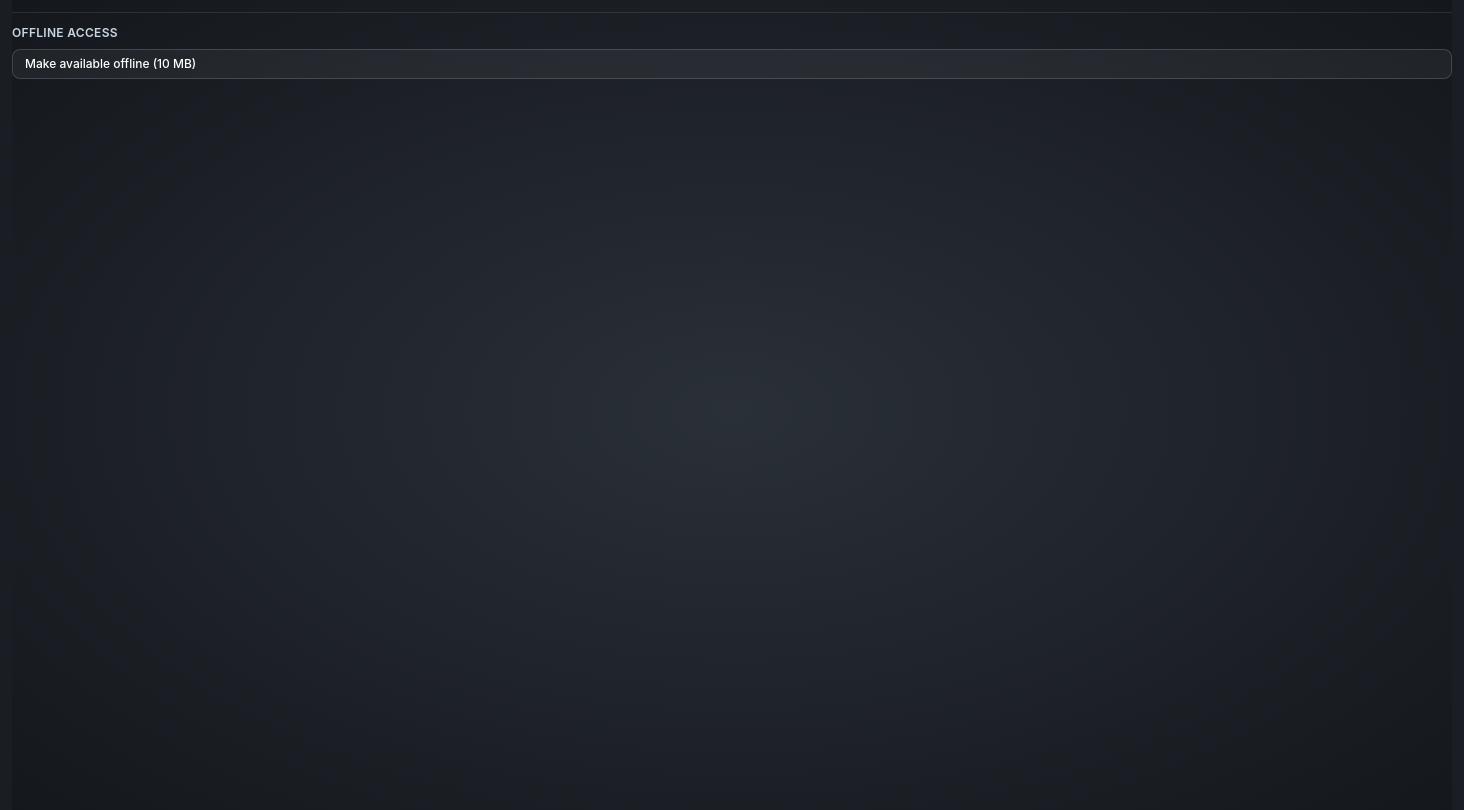
OfflineDownload › displays failure error message on network failure
This screenshot has width=1464, height=810.
Click the button "Make available offline (10 MB)" at coordinates (111, 64), box x1=12 y1=49 x2=1452 y2=79
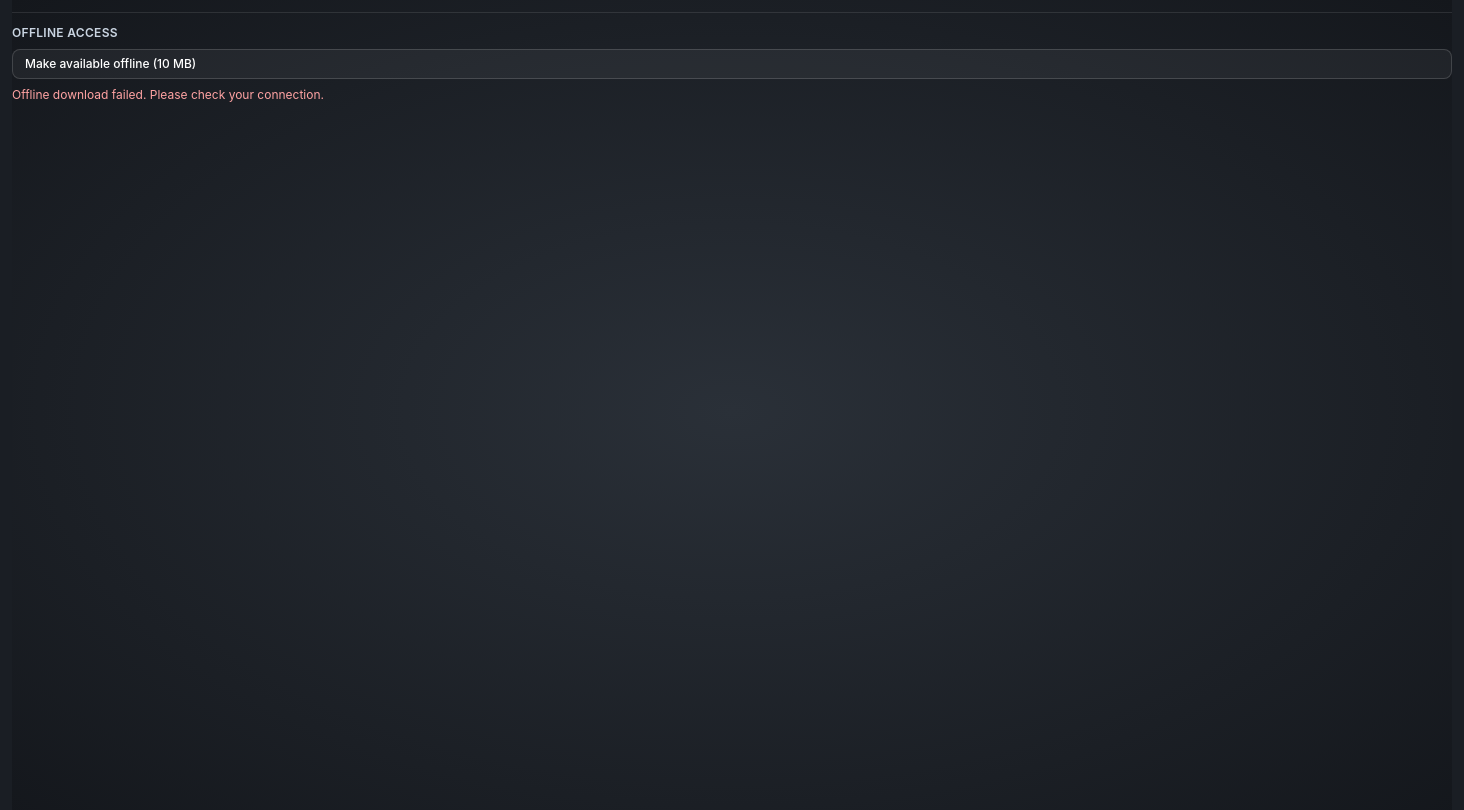
Result: the text "Offline download failed. Please check your connection." is shown at x1=12 y1=87 x2=324 y2=102
